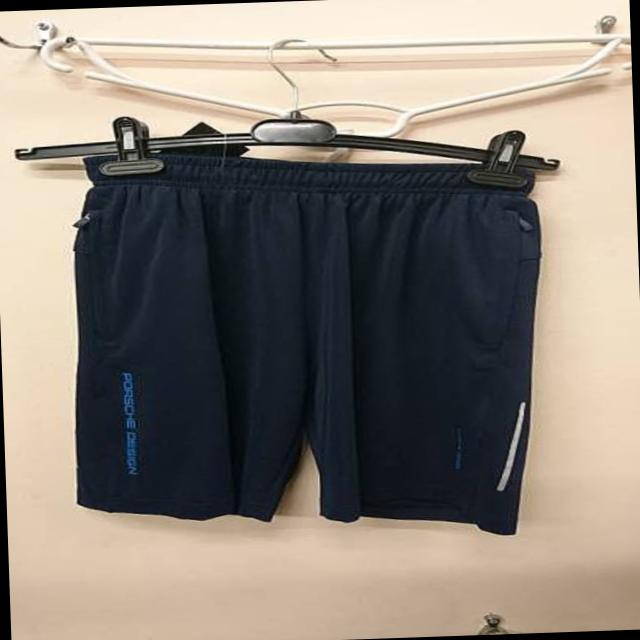SHORT: (54, 124, 562, 557)
